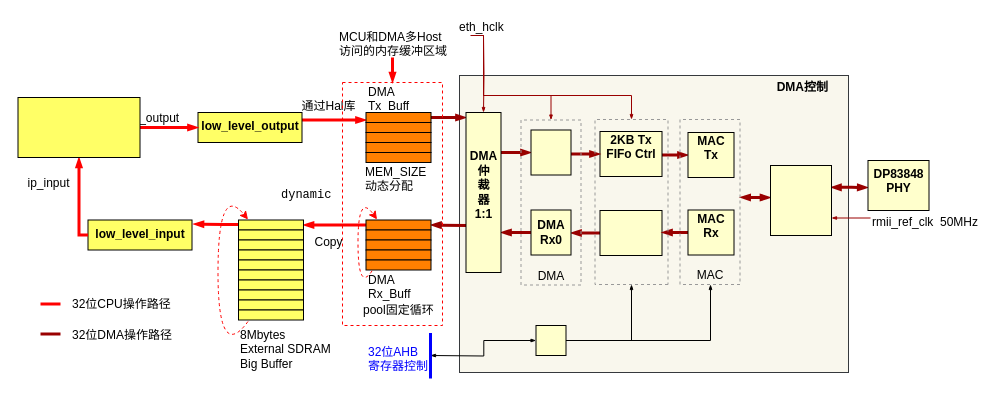
Image size: 1007x403. Some labels were removed from this diagram. Here are the shapes that lost their labels. From the top down, the box of each, then its label:
(17, 96, 140, 158): Task_TcpIp
(530, 129, 571, 175): DMA Tx0
(594, 118, 668, 284): MTL
(770, 164, 832, 236): RMII
(599, 210, 662, 256): 2KB Rx FIFo Ctrl
(535, 324, 566, 356): CRS
